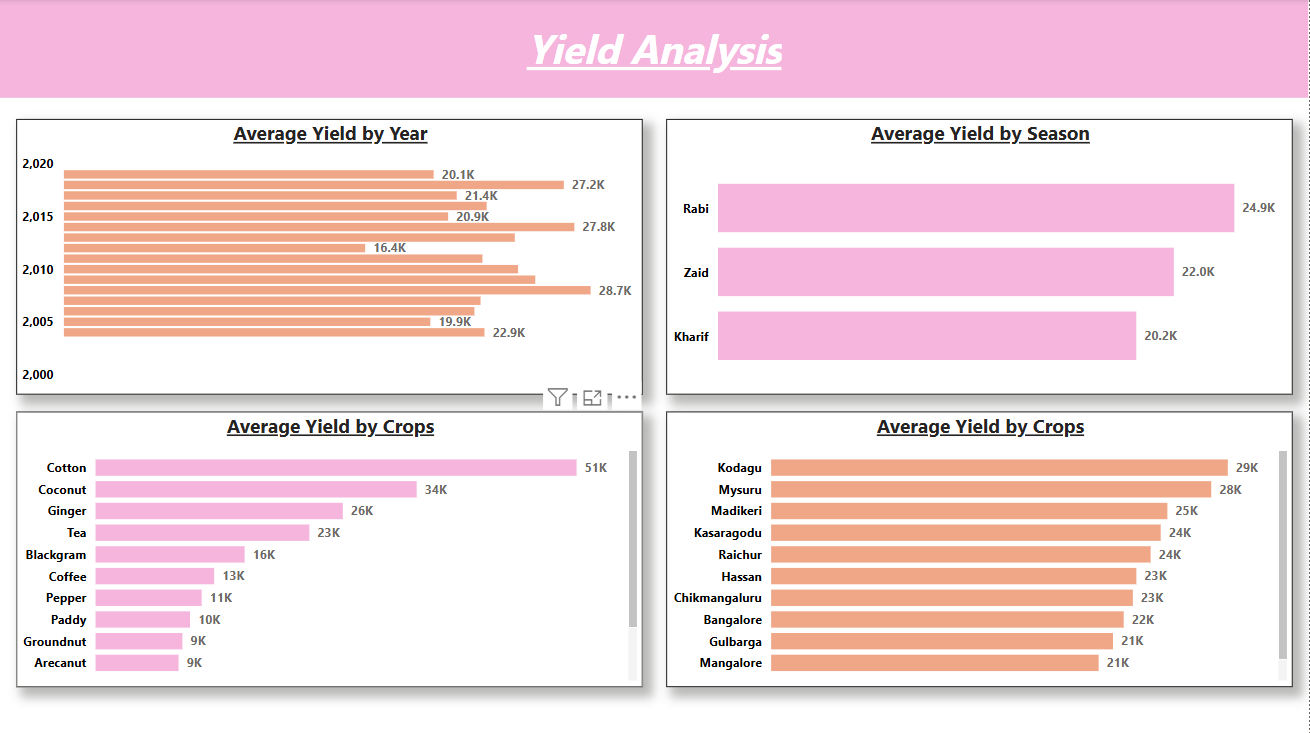

What the dashboard file says about the page in this screenshot:
{"tool":"powerbi","page":{"name":"Yield  Analysis","canvas":[1280,720],"ordinal":3},"visuals":[{"type":"shape","box":[0,0,1279.7,96.7],"z":0},{"type":"barChart","title":"Average  Yield by Year","fields":{"Category":["AGRICULTURE.YEAR"],"Y":["Sum(AGRICULTURE.YEILDS)"]},"box":[15.9,116.9,613.2,269.8],"z":1000},{"type":"barChart","title":"Average  Yield  by Season","fields":{"Category":["AGRICULTURE.SEASON"],"Y":["Sum(AGRICULTURE.YEILDS)"]},"box":[652.1,116.9,613.2,269.8],"z":2000},{"type":"barChart","title":"Average  Yield  by Crops","fields":{"Category":["AGRICULTURE.CROPS"],"Y":["Sum(AGRICULTURE.YEILDS)"]},"box":[15.9,404,613.2,269.8],"z":3000},{"type":"barChart","title":"Average  Yield by Crops","fields":{"Category":["AGRICULTURE.LOCATION"],"Y":["Sum(AGRICULTURE.YEILDS)"]},"box":[652.1,404,613.2,269.8],"z":4000}]}

Visuals, with their boxes in screenshot pixels (x1, y1, x2, y2), scaled from the page's 1280x720 canvas onto the 1310x733 screenshot:
shape: <box>0,0,1309,98</box>
"Average  Yield by Year" barChart: <box>16,119,644,394</box>
"Average  Yield  by Season" barChart: <box>667,119,1295,394</box>
"Average  Yield  by Crops" barChart: <box>16,411,644,686</box>
"Average  Yield by Crops" barChart: <box>667,411,1295,686</box>
